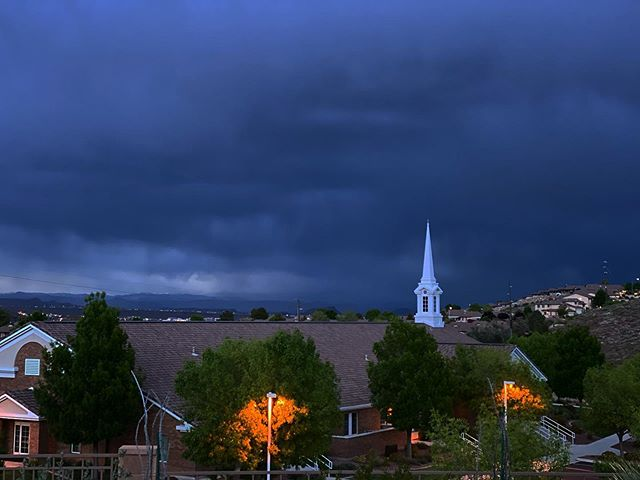building: (1, 311, 536, 480)
sky: (1, 1, 640, 295)
tree: (173, 328, 344, 474), (32, 305, 158, 451), (443, 343, 562, 468), (366, 312, 454, 435), (516, 320, 610, 387)
